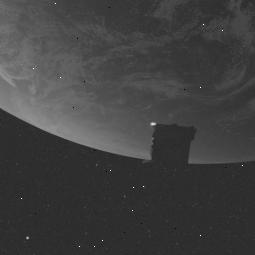proba_3_ocs: (142, 116, 209, 179)
